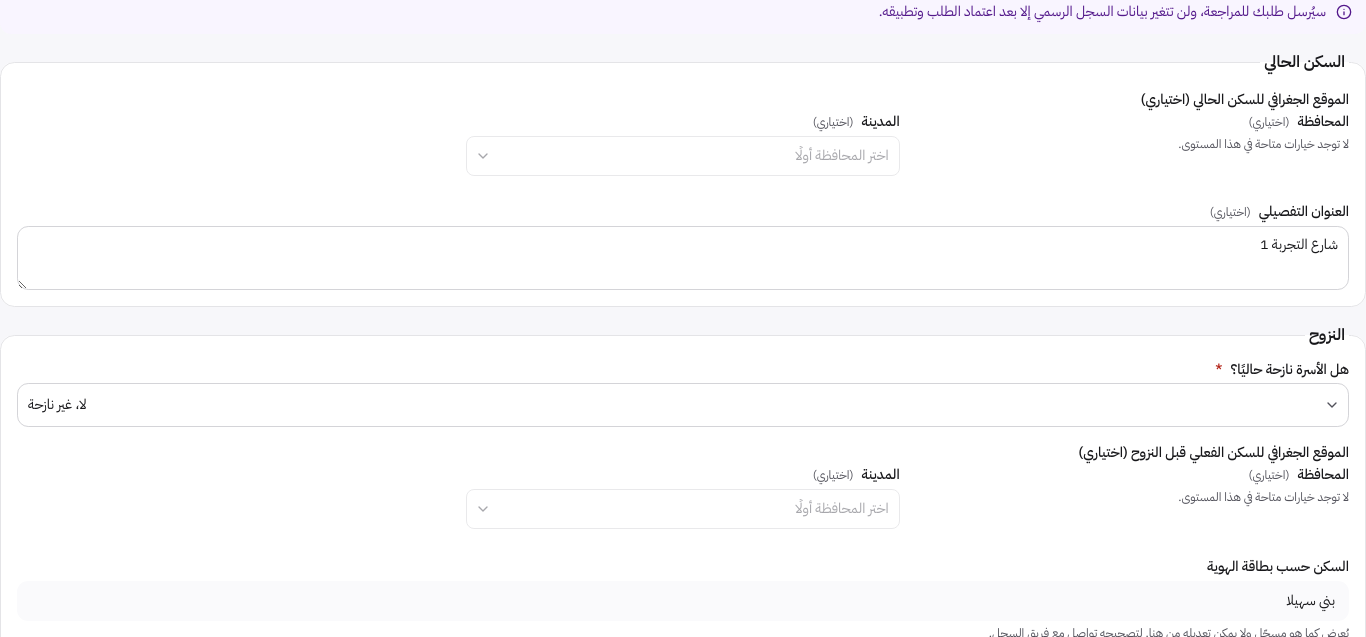
Test: the residence update form (payload v3) › explains CHANGE_REQUEST_PRECONDITION_FAILED safely
Type " الجديد" into the text box labelled "العنوان التفصيلي (اختياري)".
click(683, 258); type(" الجديد")  # box [17, 226, 1349, 290]
(page scrolled)
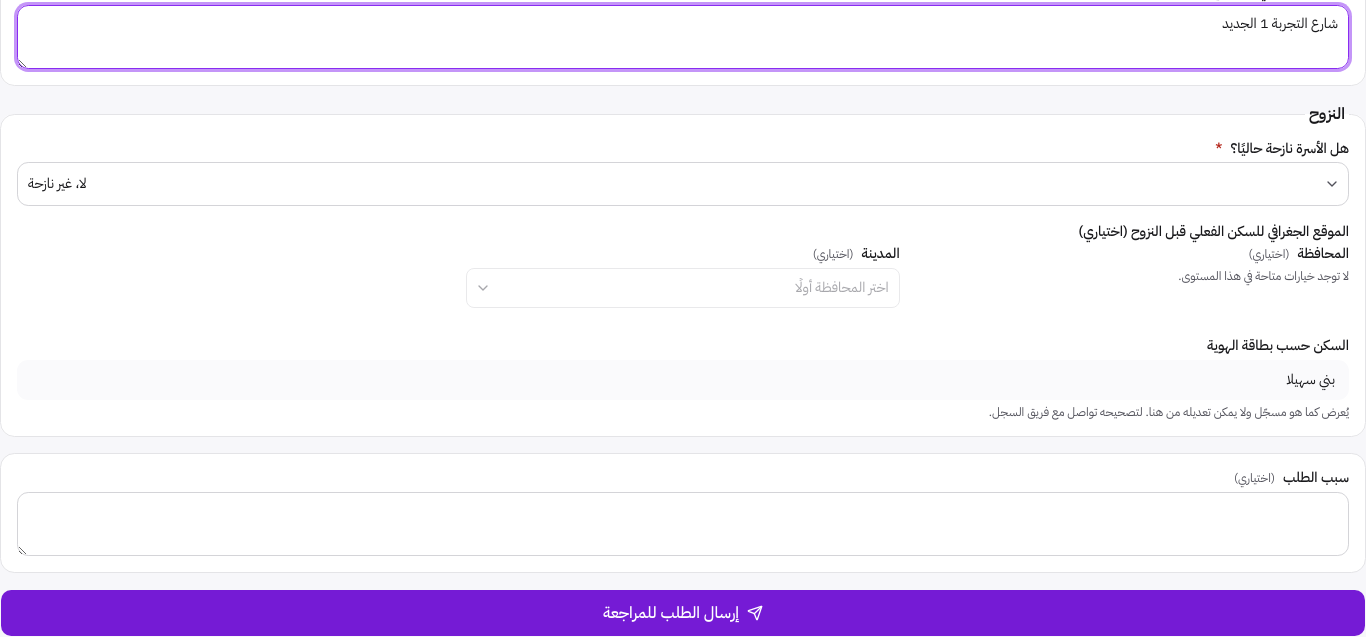
Click the button "إرسال الطلب للمراجعة".
click(683, 613)  # box [0, 589, 1365, 636]
(page scrolled)
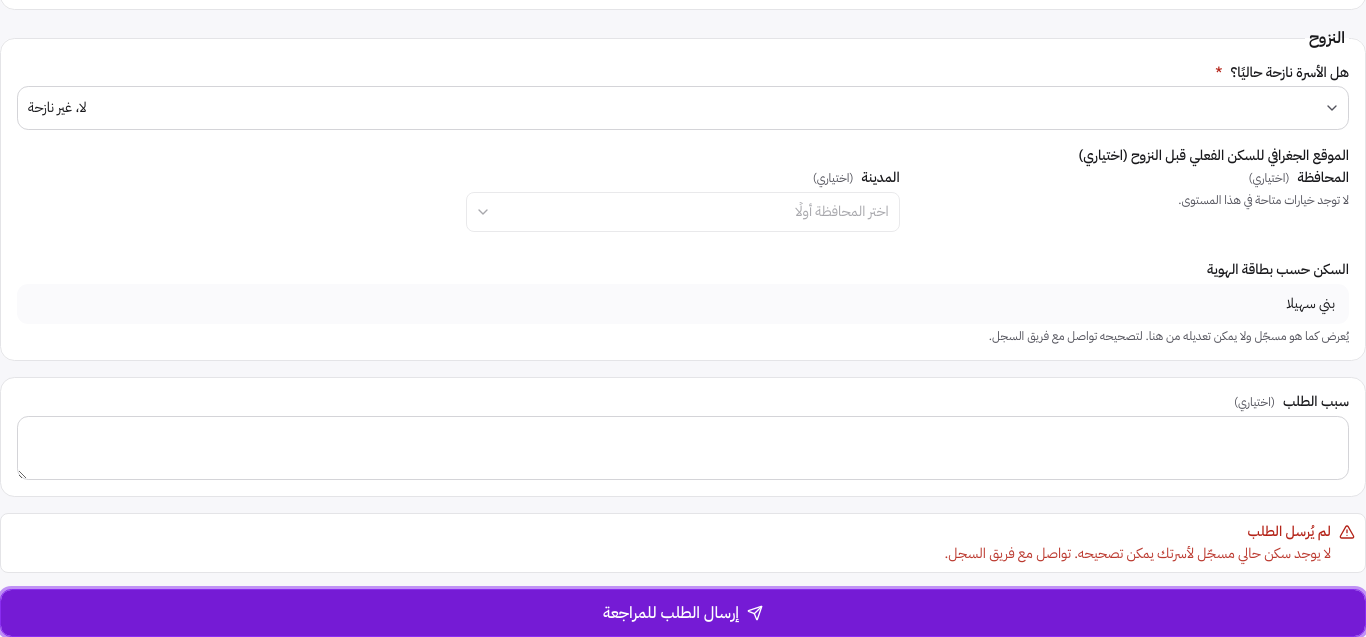
Now the message shows "لا يوجد سكن حالي مسجّل لأسرتك", box [944, 543, 1331, 564]
